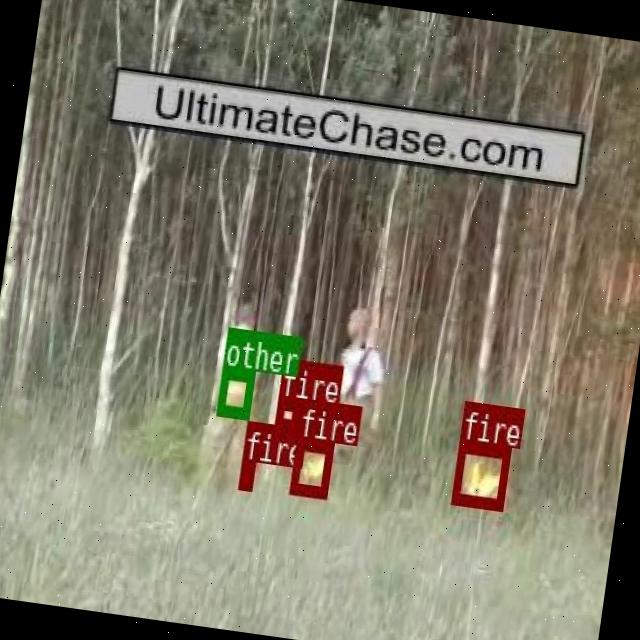fire: (451, 440, 510, 508), (289, 437, 332, 495), (274, 396, 301, 429), (238, 458, 255, 488)
